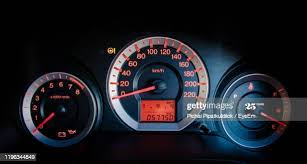Digital_Meter: (138, 98, 177, 123)
